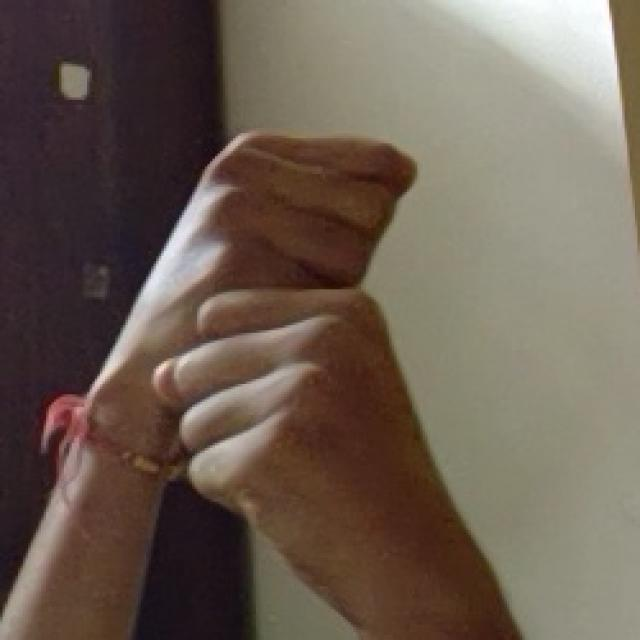Alphabet-g: (121, 111, 518, 640)
